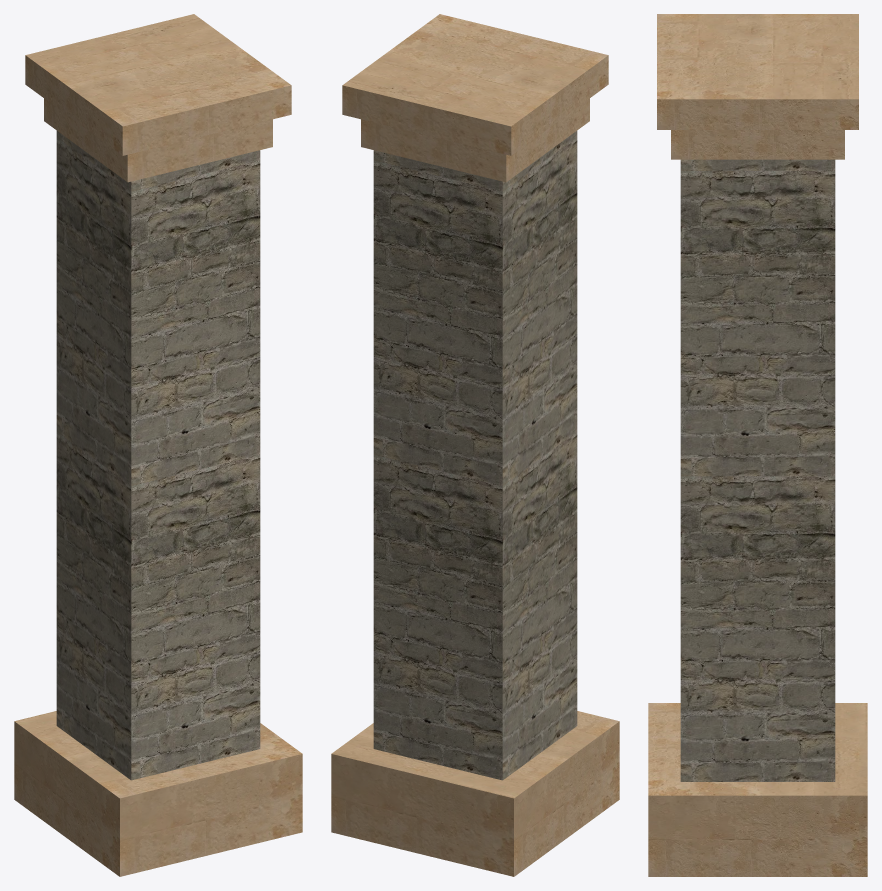
File: pilar_piedra.glb
3 renders of one model, left to right at view 1: azimuth 30°, elevation 25°; view 2: azimuth 150°, elevation 25°; view 3: azimuth 270°, elevation 25°, orthographic. The views are drawn at different scales.
Bounding box in the file's own units: 0.78 × 3.04 × 0.78.
Materials: 2 (2 with a texture image).
